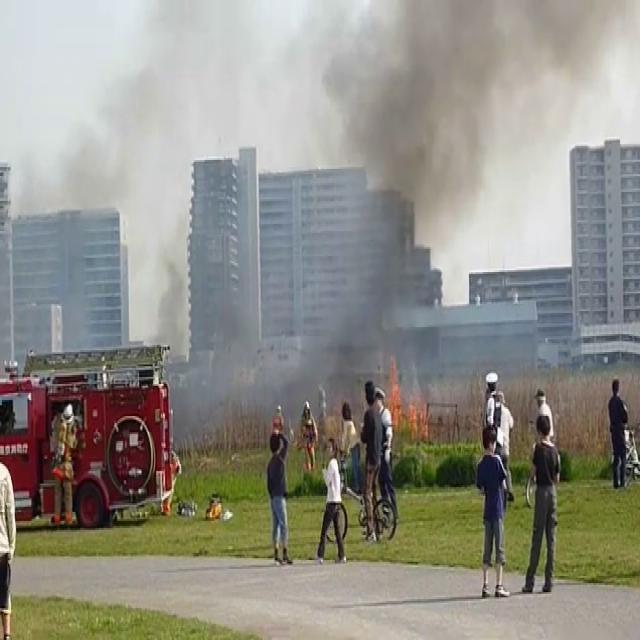Smoke: (1, 0, 598, 395)
